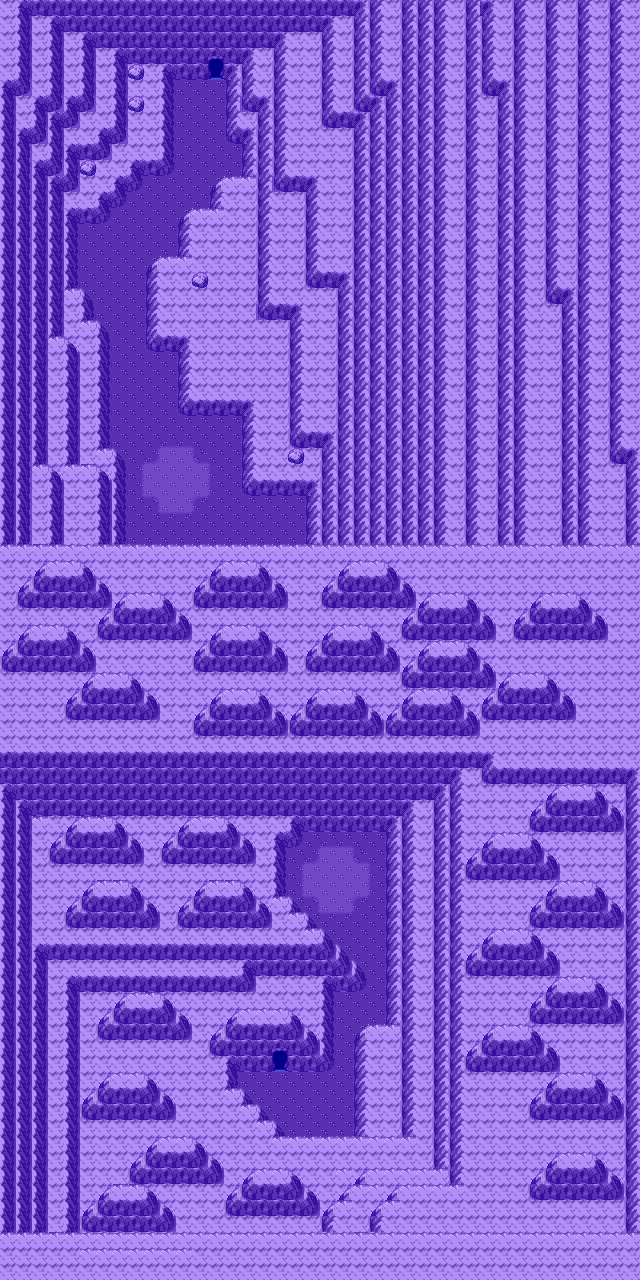cave: (178, 34, 255, 83), (246, 1031, 315, 1079)
